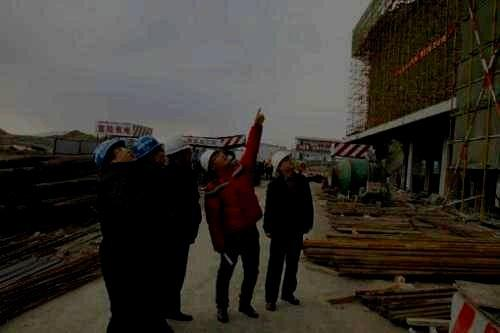helmet: (92, 139, 136, 165), (132, 135, 166, 168), (162, 136, 193, 166), (199, 149, 228, 172), (271, 150, 294, 175)
